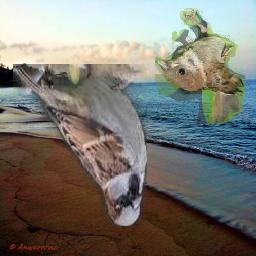Sparrow: (13, 64, 147, 226), (155, 8, 245, 124)
